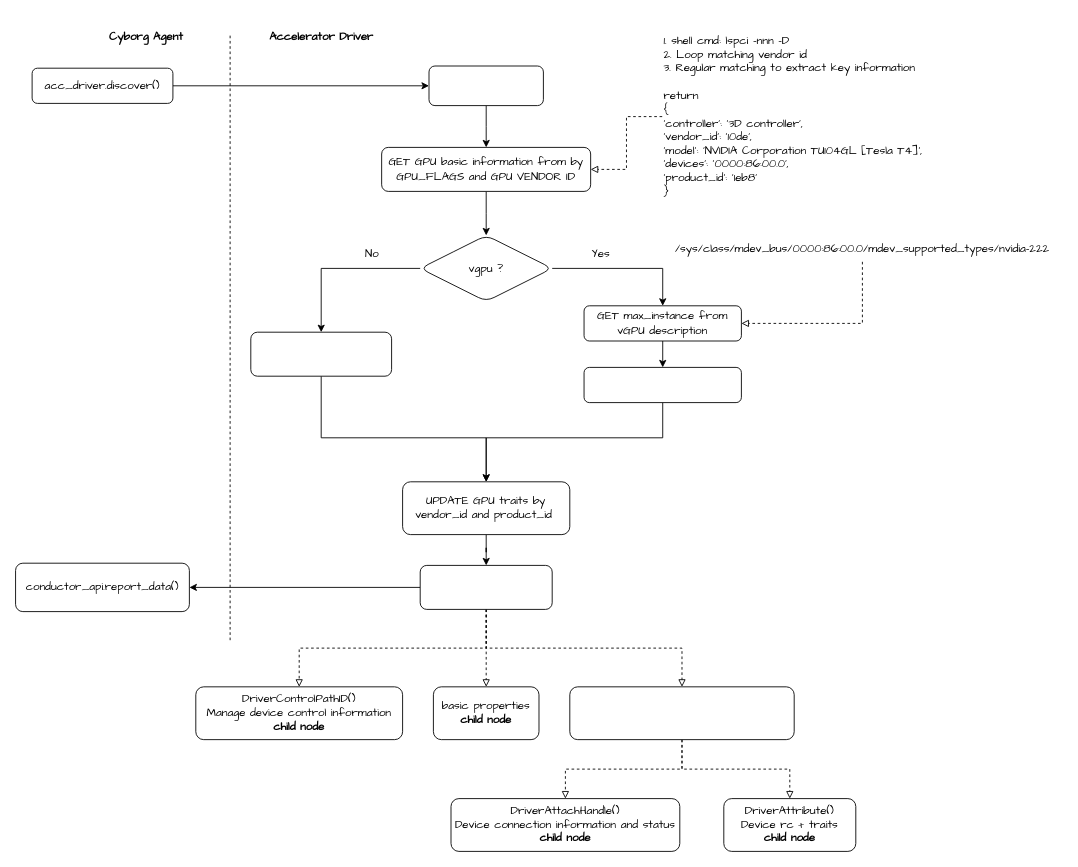
The diagram is 1078 pixels wide and 867 high, and some of its shapes have lost their labels. Here are the shapes that lost their labels. From the top down, the centre of each, then its label:
At (x=485, y=85): "discover_gpus()".
At (x=321, y=353): "resource class = PGPU num = 1".
At (x=662, y=385): "resource class = VGPU num = max_instance".
At (x=485, y=587): "DriverDevice() root node".
At (x=681, y=713): "DriverDeployable() Manage device deployment information branch node".
